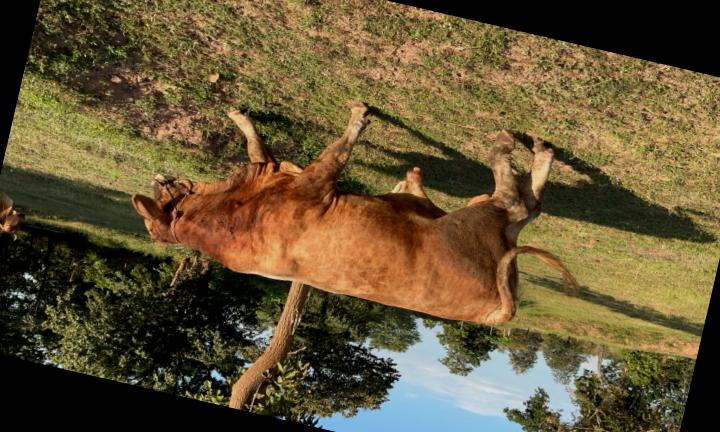Charolais: (132, 101, 577, 324)
